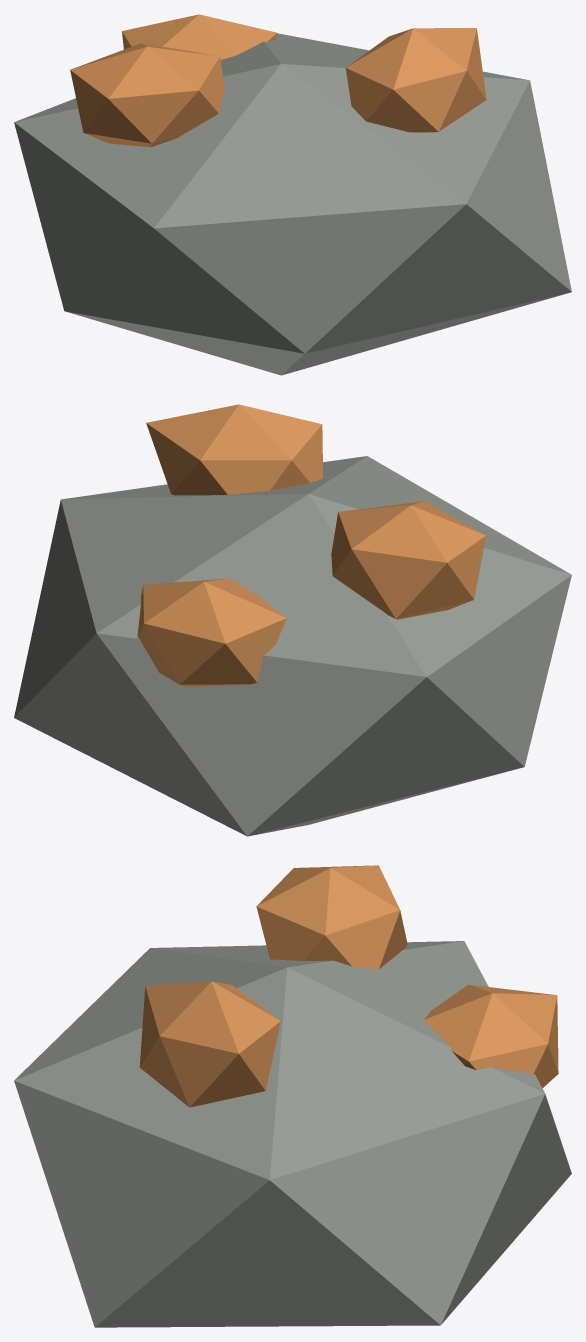
The model's file is copper-ore.glb.
The picture shows the model from 3 angles, top to bottom: view 1: azimuth 30°, elevation 25°; view 2: azimuth 150°, elevation 25°; view 3: azimuth 270°, elevation 25°; orthographic projection. The views are drawn at different scales.
Parts seen in each view (by area): view 1: copper-ore / Gray stone, copper-ore / Copper; view 2: copper-ore / Gray stone, copper-ore / Copper; view 3: copper-ore / Gray stone, copper-ore / Copper.
Part boxes in pixels (<box>): copper-ore / Gray stone: <box>14,33,571,375</box>; copper-ore / Copper: <box>70,14,486,147</box>; copper-ore / Gray stone: <box>14,456,571,836</box>; copper-ore / Copper: <box>137,404,486,686</box>; copper-ore / Gray stone: <box>14,941,571,1327</box>; copper-ore / Copper: <box>139,865,558,1107</box>.
Bounding box in the file's own units: 0.2741 × 0.2017 × 0.2582.
